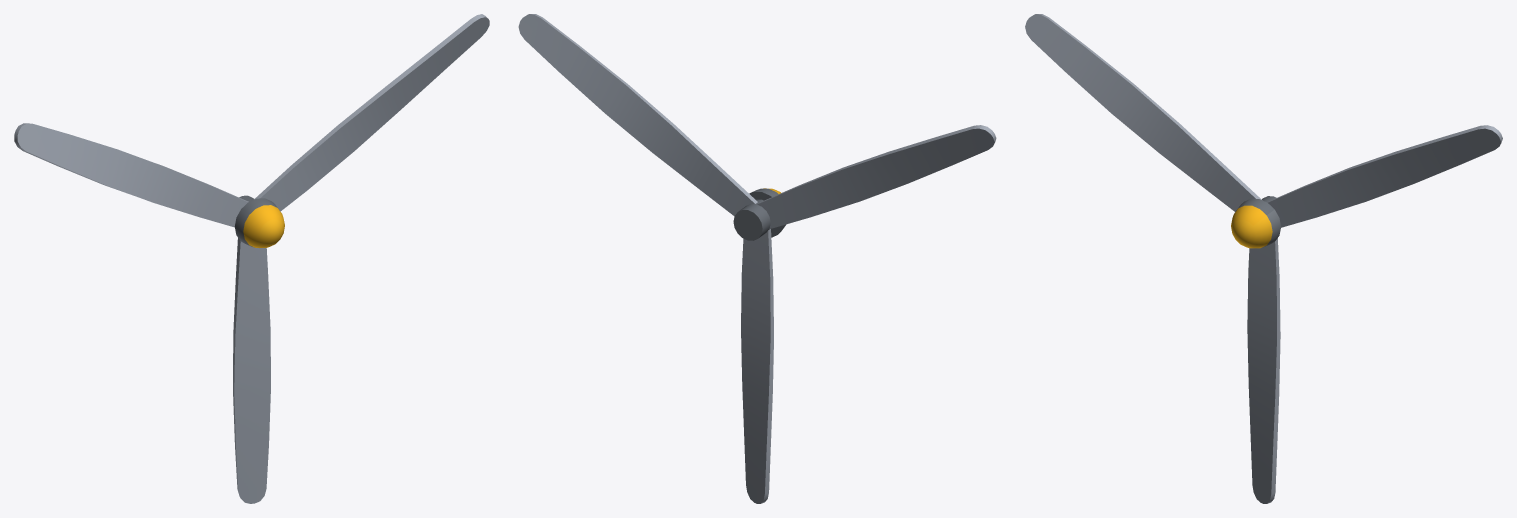
The model's file is SM_Windmill_Helix.fbx.
The picture shows the model from 3 angles, left to right: view 1: azimuth 30°, elevation 25°; view 2: azimuth 150°, elevation 25°; view 3: azimuth 330°, elevation 25°; orthographic projection.
Parts seen in each view (by area): view 1: SM_Windmill_Helix; view 2: SM_Windmill_Helix; view 3: SM_Windmill_Helix.
Part boxes in pixels (x1,y1,x2,y2): SM_Windmill_Helix: [14, 14, 489, 503]; SM_Windmill_Helix: [518, 14, 996, 503]; SM_Windmill_Helix: [1025, 14, 1502, 503].
Bounding box in the file's own units: 443 × 386 × 51.82.
